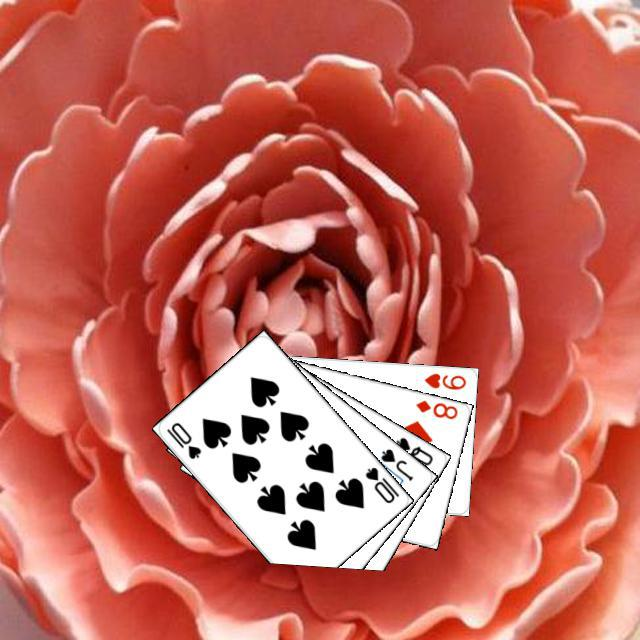10s: (162, 417, 203, 461), (360, 462, 401, 505)
8d: (411, 395, 459, 421)
9h: (419, 368, 467, 391)
Js: (376, 444, 415, 483)
Qs: (391, 432, 435, 467)
